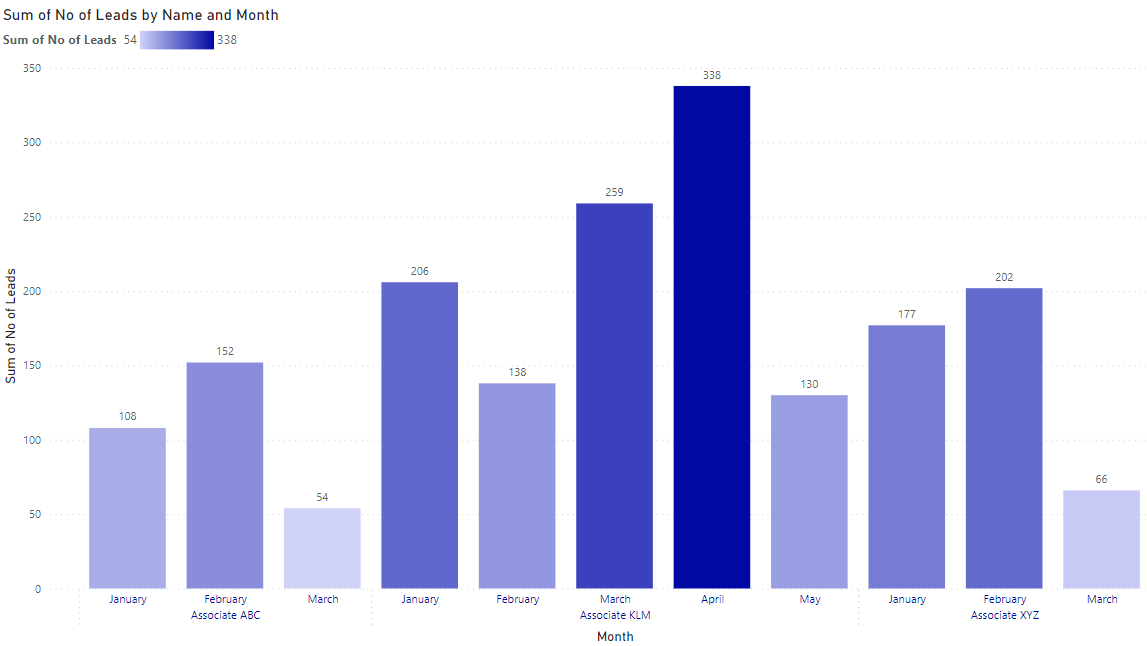

The page's visual inventory and layout, read from the dashboard file:
{"tool":"powerbi","page":{"name":"Monthly report by Leads","canvas":[1280,720],"ordinal":4},"visuals":[{"type":"clusteredColumnChart","fields":{"Y":["Sum(Data Assignment.No of Leads)"],"Category":["Data Assignment.Name","Data Assignment.Date.Variation.Date Hierarchy.Month"]},"box":[0,27.5,1279.8,692.5],"z":0}]}

Visuals, with their boxes in screenshot pixels (x1, y1, x2, y2), scaled from the page's 1280x720 canvas onto the 1147x646 screenshot:
clusteredColumnChart - Sum(Data Assignment.No of Leads) x Data Assignment.Name: bbox=[0, 25, 1146, 645]
